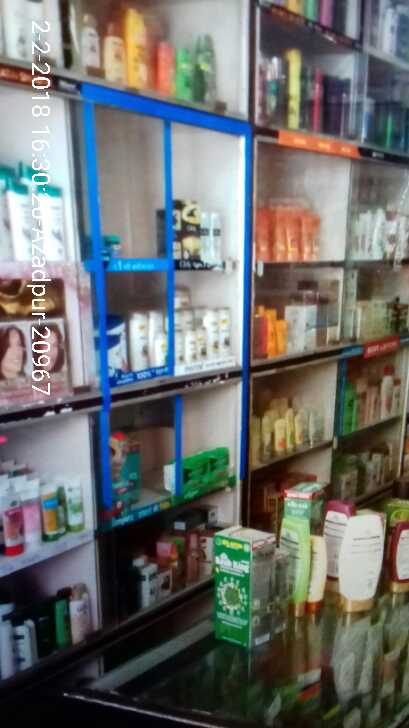vicks: (100, 236, 126, 263)
